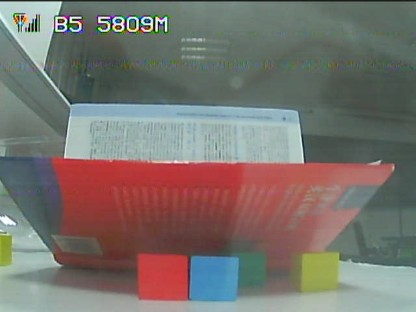b: (190, 257, 235, 301)
g: (235, 255, 267, 289)
r: (136, 254, 186, 299)
